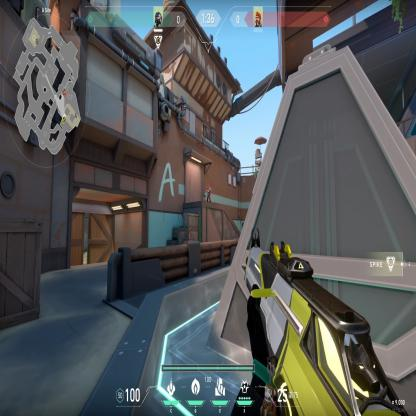enemy: (206, 183, 212, 204)
